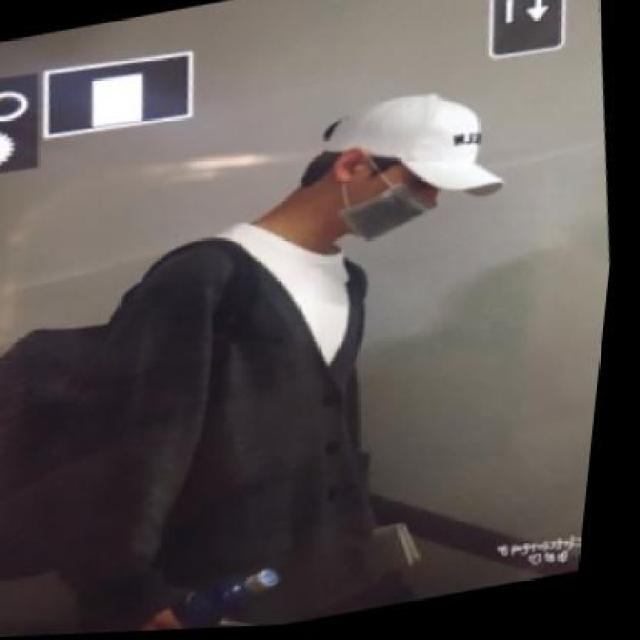hat: (301, 78, 522, 234)
